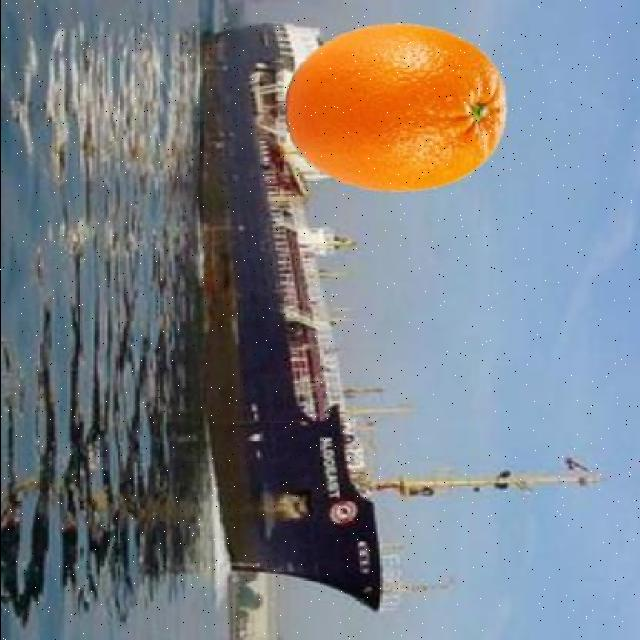Orange: (285, 21, 509, 192)
